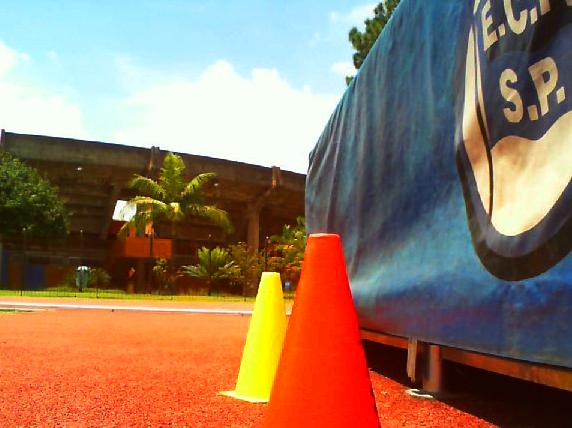0 cone: (249, 233, 390, 428), (219, 272, 288, 403)
